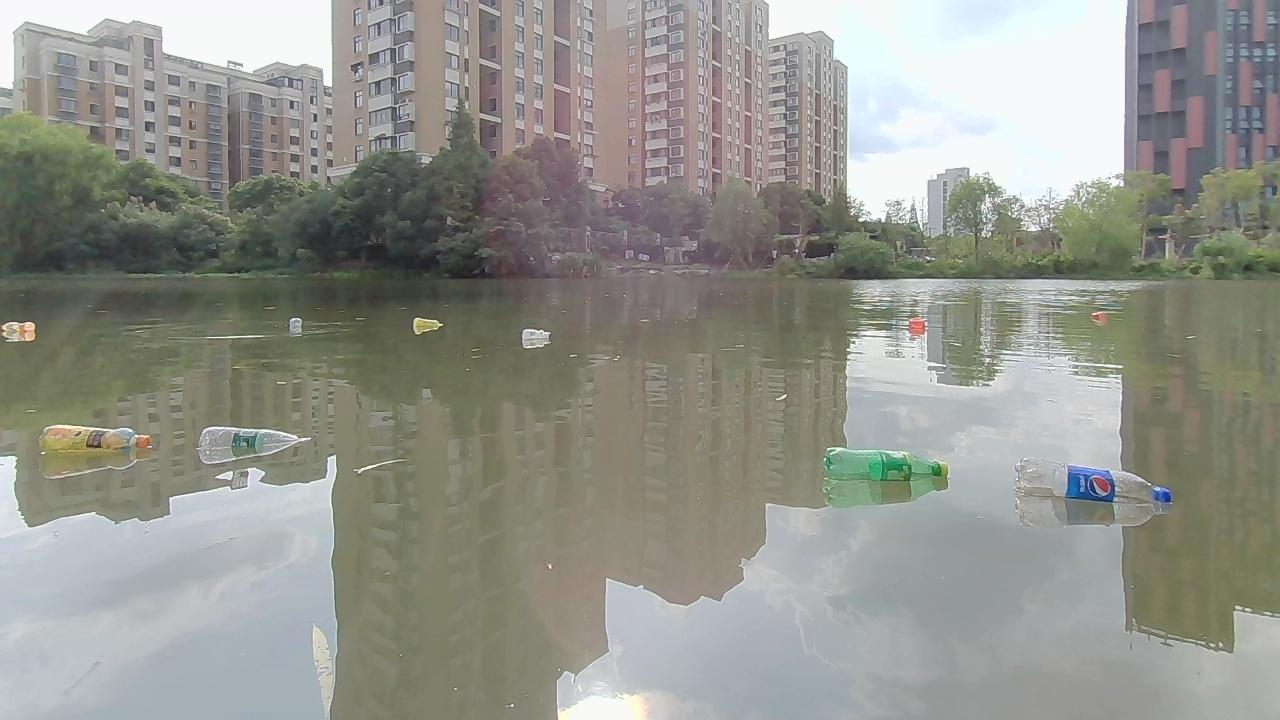bottle: (1013, 457, 1179, 515), (821, 440, 953, 485), (193, 422, 324, 466), (31, 422, 157, 460), (520, 327, 558, 346), (0, 320, 35, 338), (412, 315, 441, 334), (1086, 307, 1111, 325), (906, 317, 927, 335), (289, 314, 303, 332)
